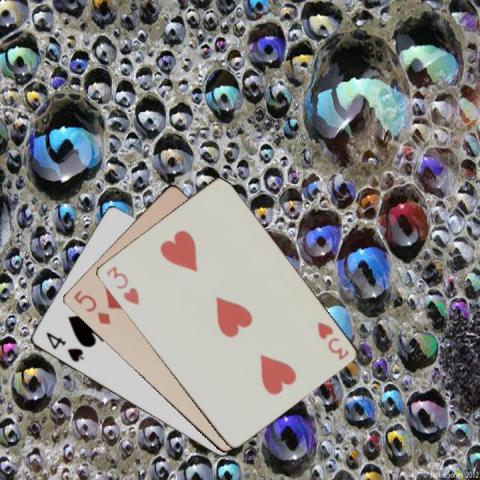3h: (103, 262, 140, 306), (313, 319, 350, 361)
4s: (42, 329, 85, 363)
5d: (70, 286, 112, 326)
